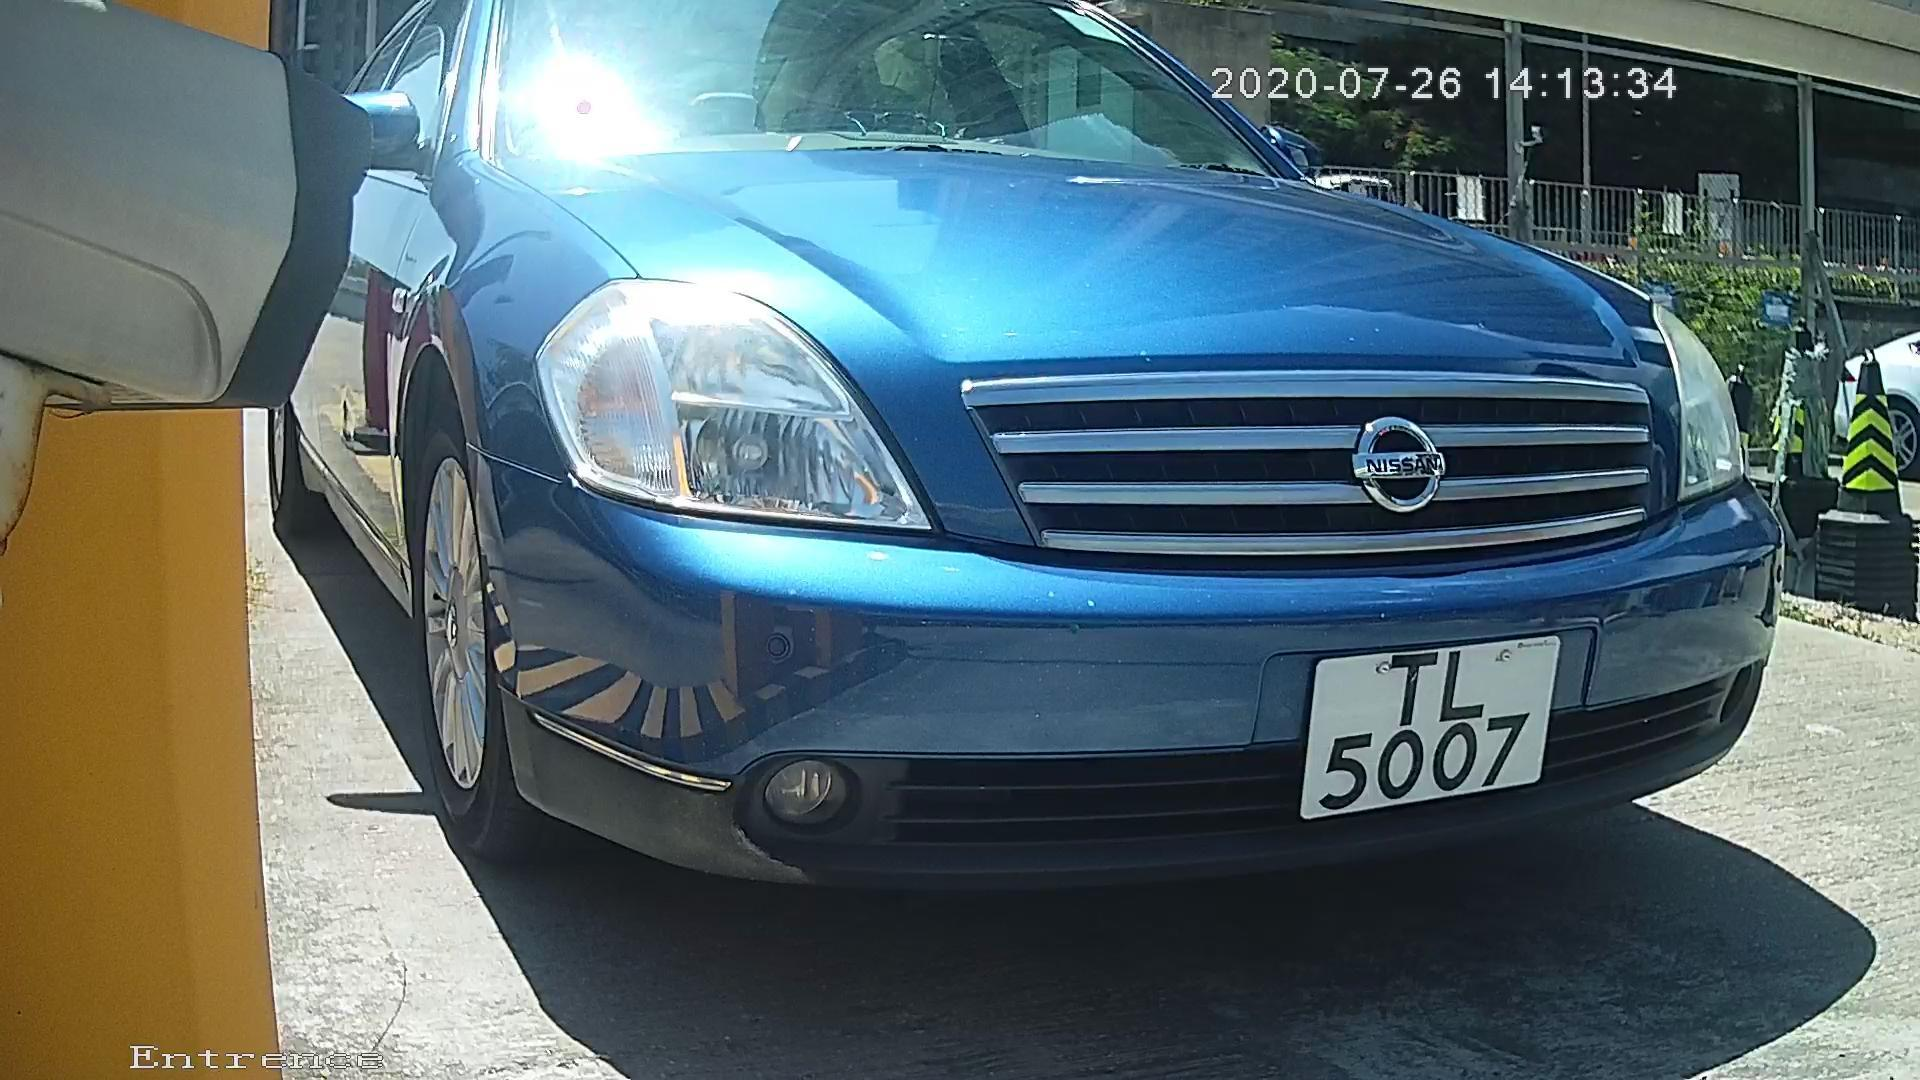privatecar: (249, 20, 1851, 984)
